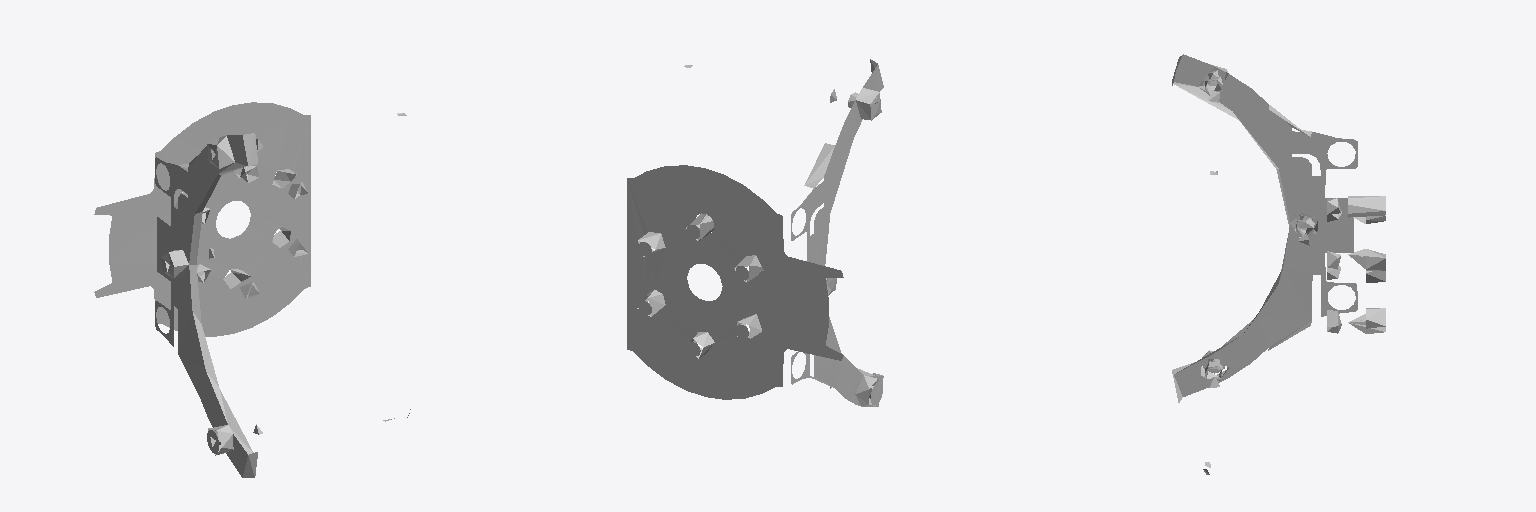
The picture shows the model from 3 angles: view 1: azimuth 30°, elevation 25°; view 2: azimuth 150°, elevation 25°; view 3: azimuth 270°, elevation 25°; orthographic projection.
Visible parts, largest first — view 1: link1_1; view 2: link1_1; view 3: link1_1.
Boxes of the visible parts, x1,y1,x2,y2 form: link1_1: [94, 102, 410, 477]; link1_1: [627, 59, 883, 406]; link1_1: [1172, 54, 1385, 474].
Bounding box in the file's own units: 67.7 × 94.15 × 53.43.